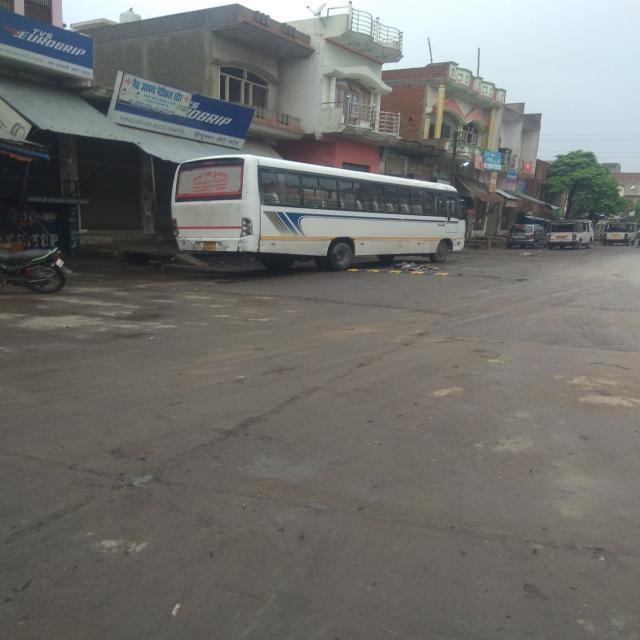Car: (548, 218, 600, 254), (513, 216, 551, 258), (602, 220, 636, 250)
